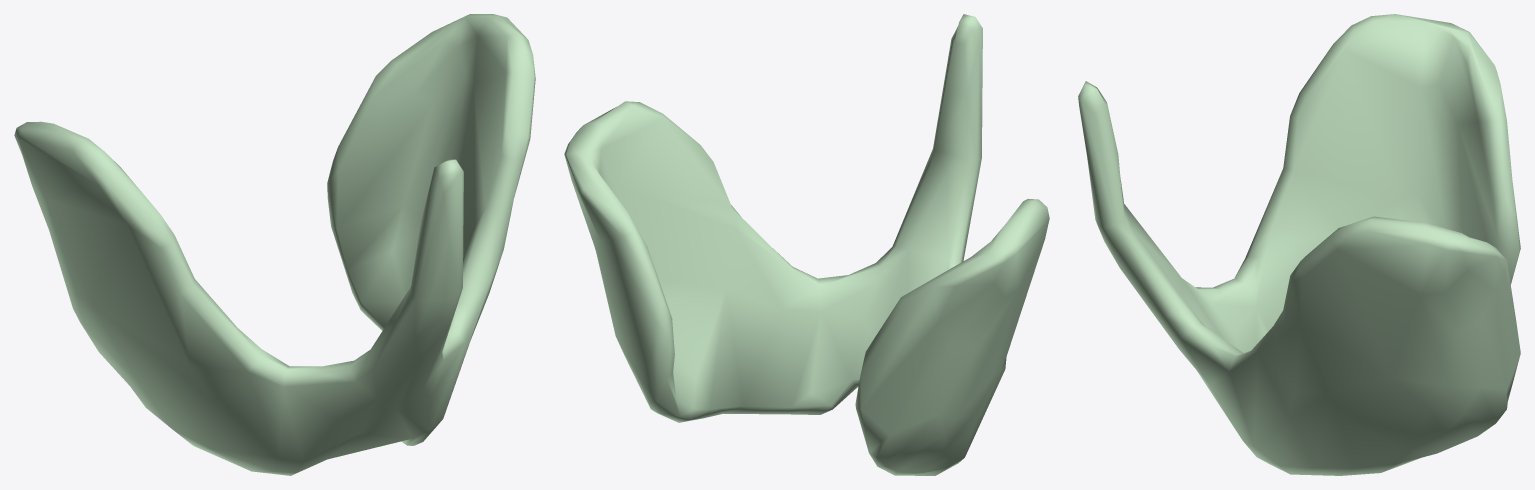
File: endocrine-cou.lo.glb
3 views of the same model, side by side, from view 1: azimuth 30°, elevation 25°; view 2: azimuth 150°, elevation 25°; view 3: azimuth 270°, elevation 25° (orthographic). The views are drawn at different scales.
Parts seen in each view (by area): view 1: ZA-thyroid-gland; view 2: ZA-thyroid-gland; view 3: ZA-thyroid-gland.
Boxes of the visible parts, x1,y1,x2,y2 form: ZA-thyroid-gland: (14,14,535,475); ZA-thyroid-gland: (564,14,1049,475); ZA-thyroid-gland: (1078,14,1520,475).
Bounding box in the file's own units: 0.0473 × 0.0348 × 0.0396.
